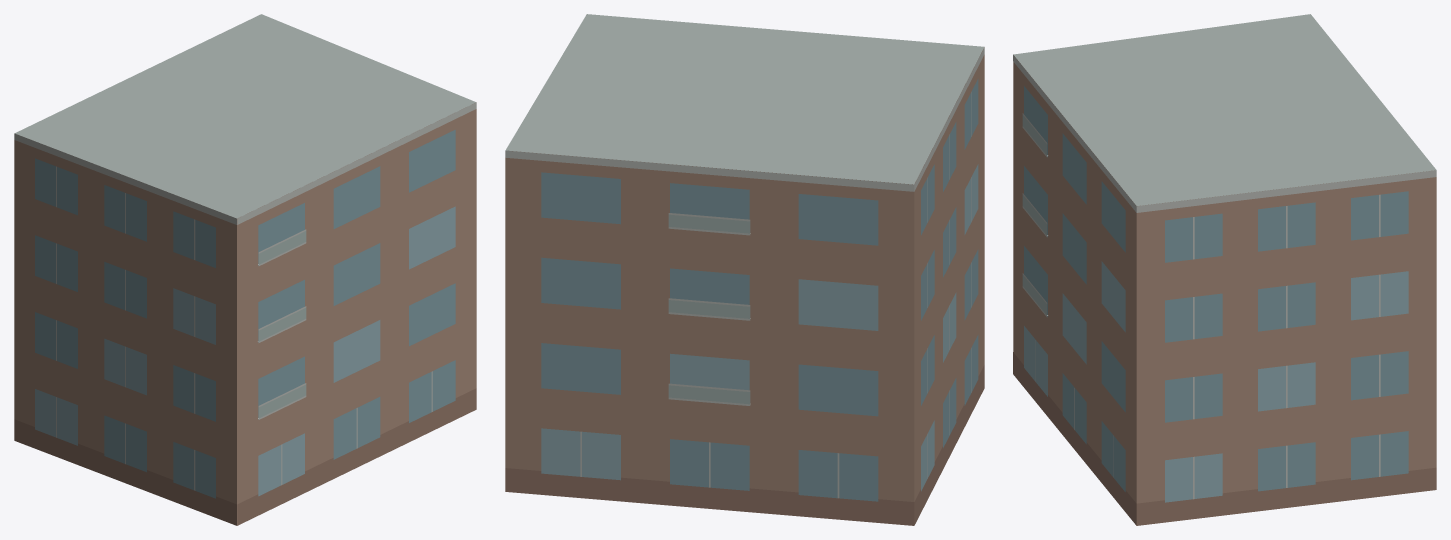
The model's file is survey-upis-32749595.glb.
3 views of the same model, side by side, from view 1: azimuth 30°, elevation 25°; view 2: azimuth 150°, elevation 25°; view 3: azimuth 270°, elevation 25° (orthographic). The views are drawn at different scales.
Visible parts, largest first — view 1: survey-upis-32749595.tmp; view 2: survey-upis-32749595.tmp; view 3: survey-upis-32749595.tmp.
Boxes of the visible parts, bbox=[...] form: survey-upis-32749595.tmp: bbox=[14, 14, 476, 525]; survey-upis-32749595.tmp: bbox=[505, 14, 984, 525]; survey-upis-32749595.tmp: bbox=[1013, 14, 1436, 525].
Size of the model in its own units: 14.7 by 11.4 by 13.7.
